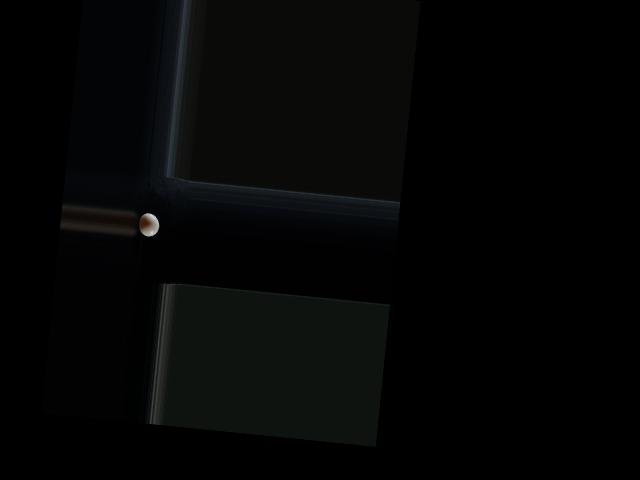egg: (137, 211, 160, 237)
